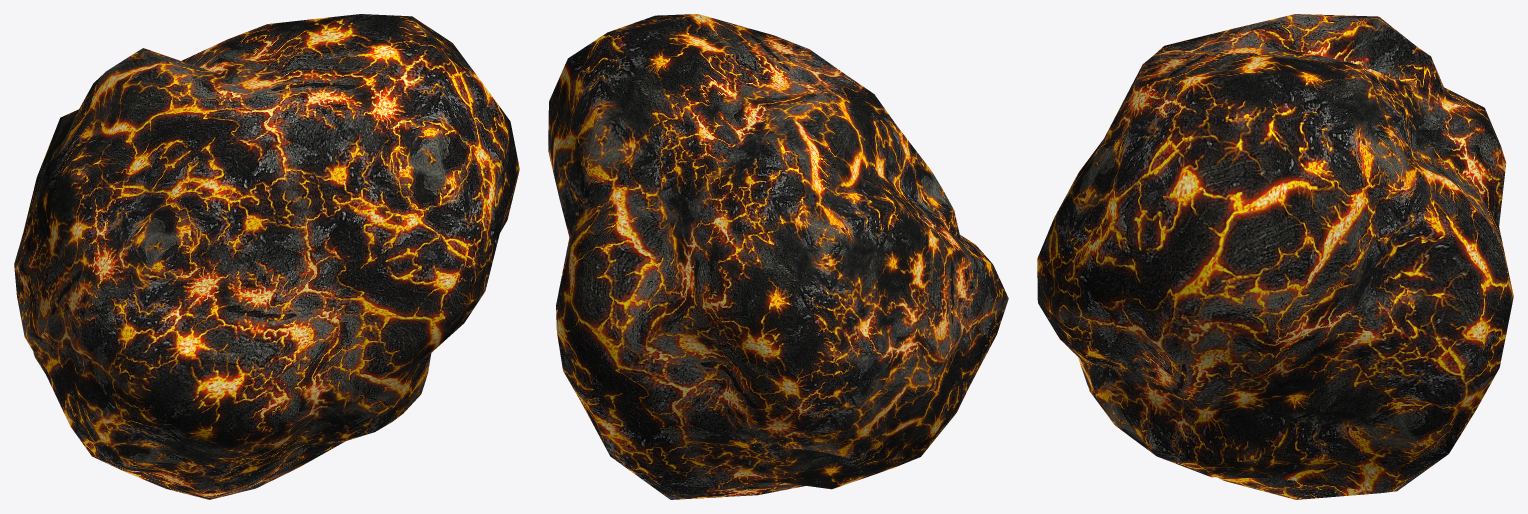
Rendered from asteroid_moltenrock_medium_s02_l0.fbx.
The picture shows the model from 3 angles, left to right: view 1: azimuth 30°, elevation 25°; view 2: azimuth 150°, elevation 25°; view 3: azimuth 270°, elevation 25°; orthographic projection. The views are drawn at different scales.
Visible parts, largest first — view 1: mesh_node; view 2: mesh_node; view 3: mesh_node.
Boxes of the visible parts, x1,y1,x2,y2 form: mesh_node: (14,14,519,499); mesh_node: (548,14,1008,499); mesh_node: (1037,14,1513,499).
Size of the model in its own units: 75.3 by 73.76 by 67.71.
